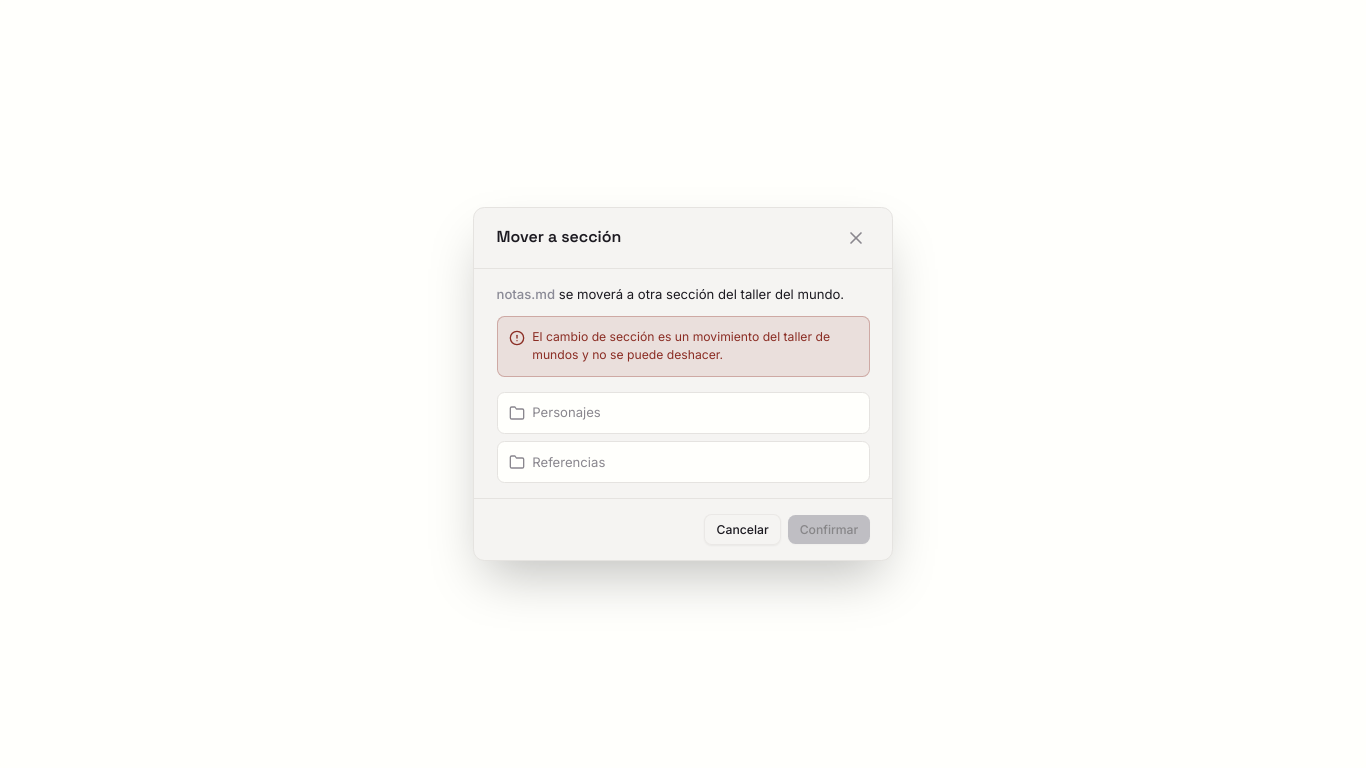
Test: MoveToSectionDialog › keeps Confirmar disabled until a section is chosen
Expected: the button "Confirmar" is disabled, x1=788 y1=515 x2=870 y2=544
Click the radio button labelled "Referencias" at (569, 462), box x1=496 y1=441 x2=870 y2=483
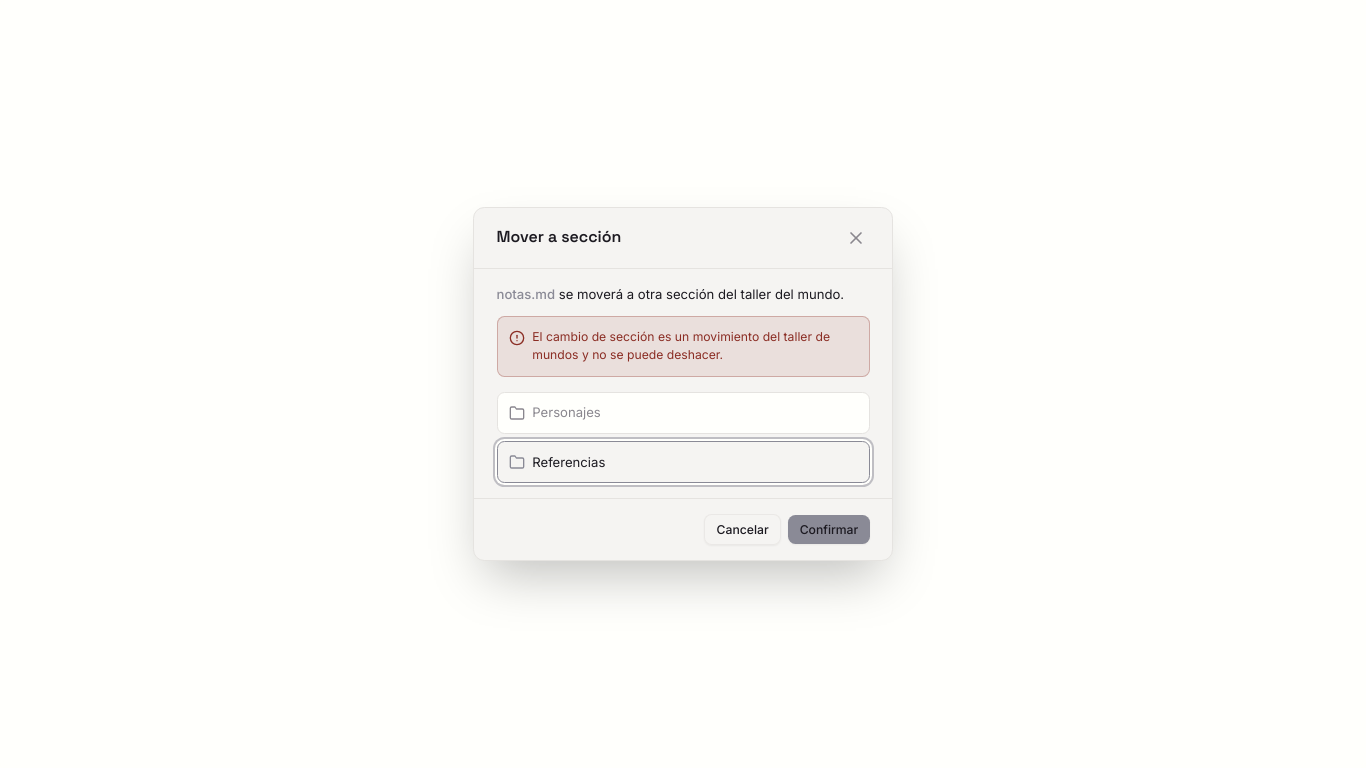
Expected: the button "Confirmar" is enabled, x1=788 y1=515 x2=870 y2=544
